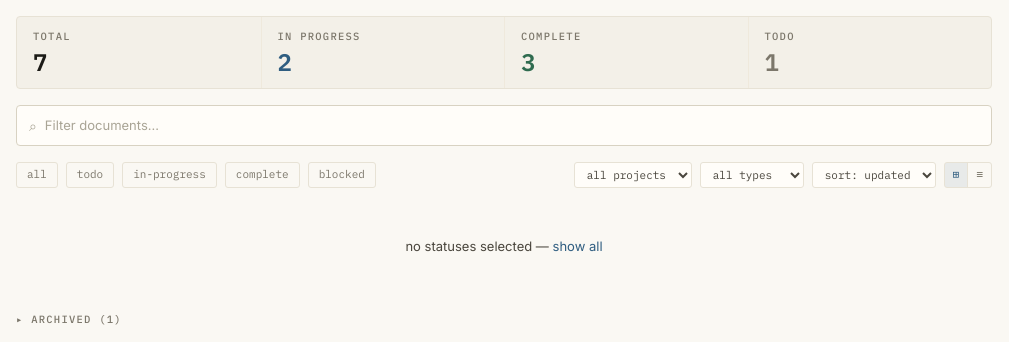
Test: RegistryView › shows a hint when no statuses are selected, whose button shows all
Expected: the element with test id "no-statuses" shows "no statuses selected", [405,238,552,254]
Click the button "show all": {"x": 578, "y": 246} [552,236,602,256]
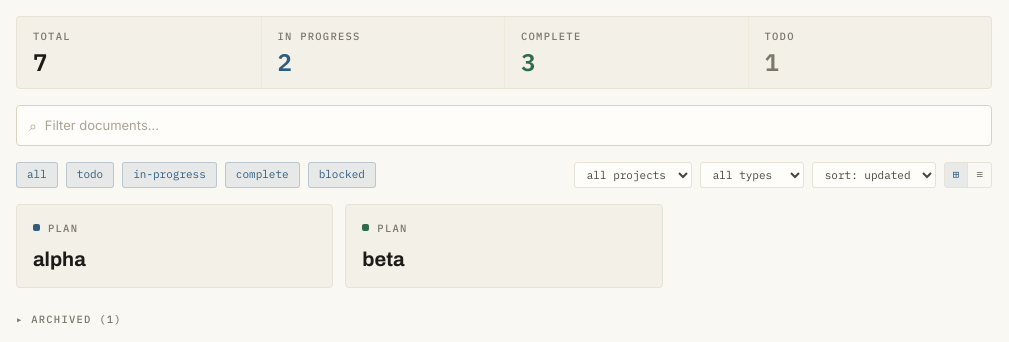
Expected: the number of links with class "doc-card" is 2, [16,204,333,288]; [345,204,663,288]
